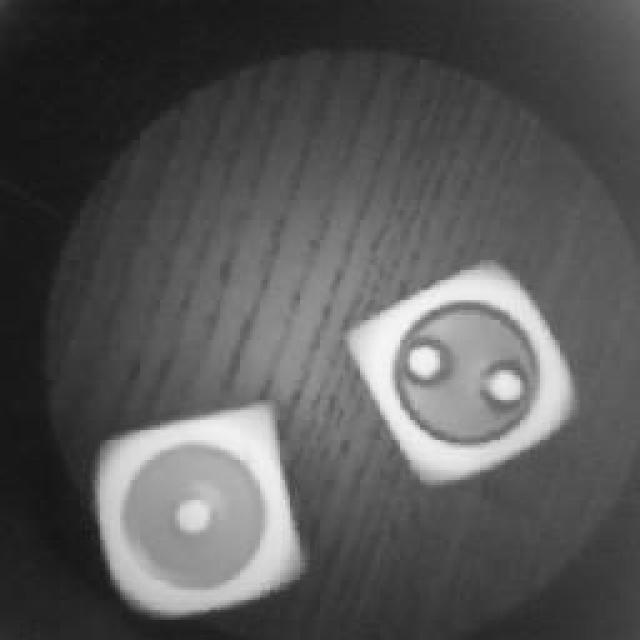dice_1: (87, 398, 295, 612)
dice_2: (360, 260, 578, 490)
